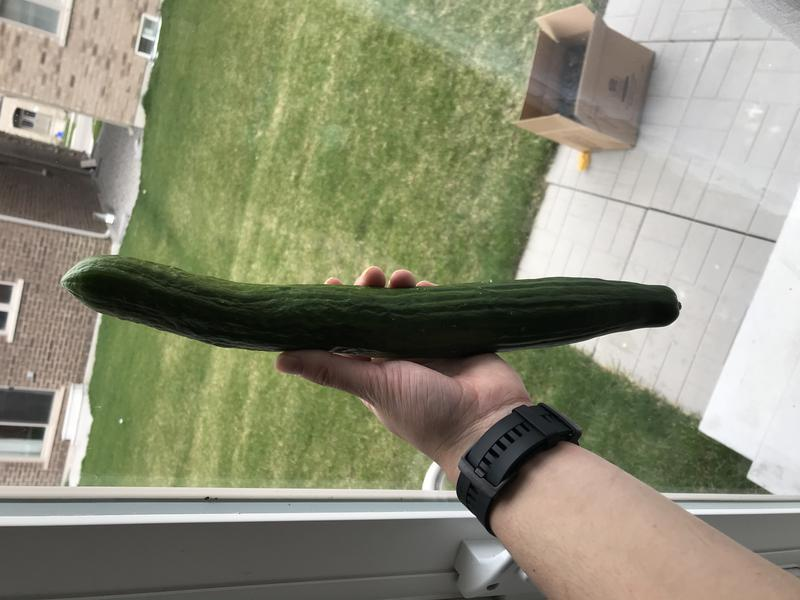cucumber: (53, 244, 697, 361)
